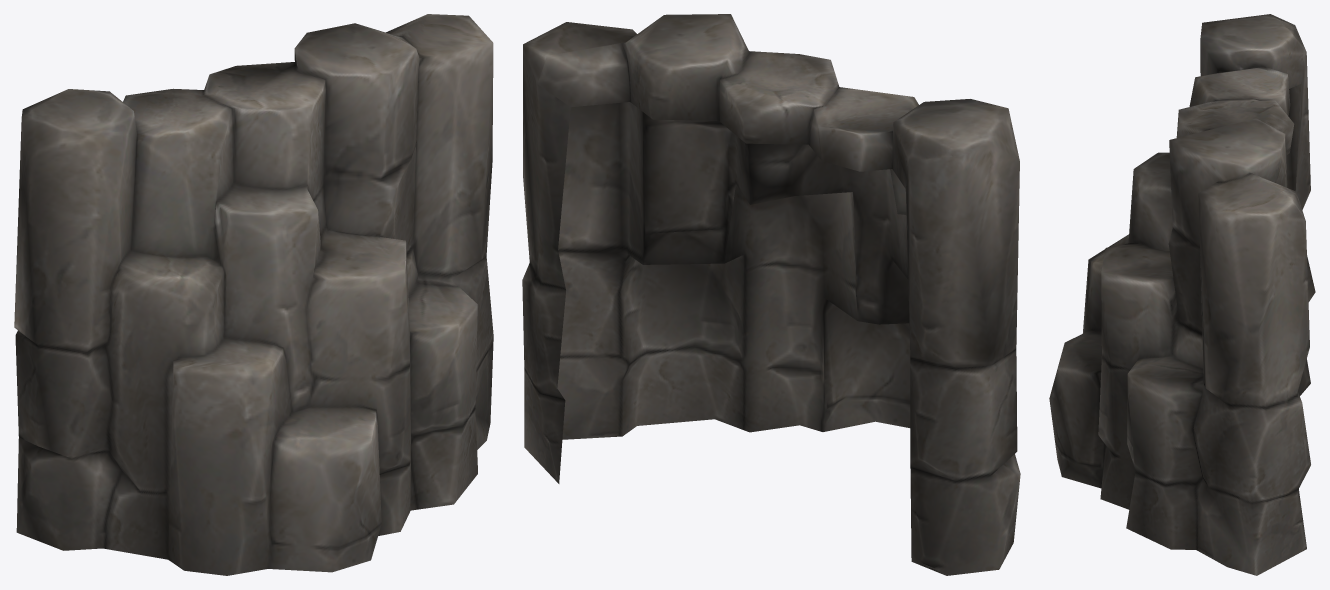
File: Cliff02.FBX
3 views of the same model, side by side, from view 1: azimuth 30°, elevation 25°; view 2: azimuth 150°, elevation 25°; view 3: azimuth 270°, elevation 25° (orthographic). The views are drawn at different scales.
Parts seen in each view (by area): view 1: Cliff02; view 2: Cliff02; view 3: Cliff02.
Part boxes in pixels (left/top/right/bottom): Cliff02: left=14, top=14, right=493, bottom=575; Cliff02: left=522, top=14, right=1020, bottom=575; Cliff02: left=1049, top=14, right=1315, bottom=575.
Size of the model in its own units: 8.32 by 4.6 by 7.11.
